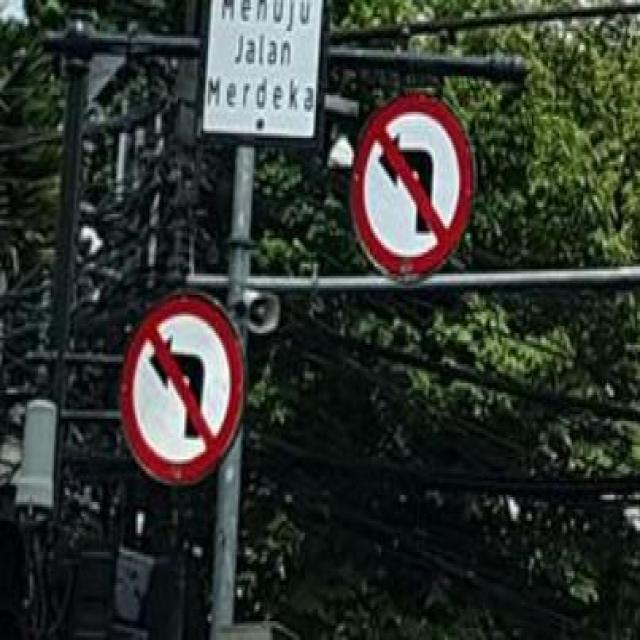traffic sign: (122, 305, 240, 478), (359, 100, 467, 272)
